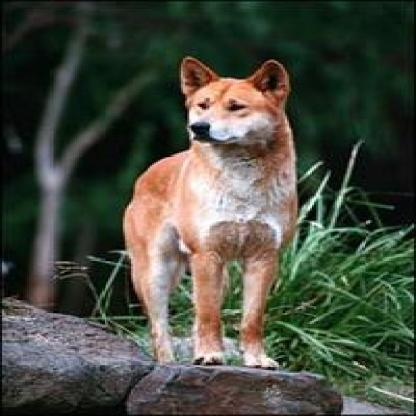dingo: (119, 57, 291, 368)
